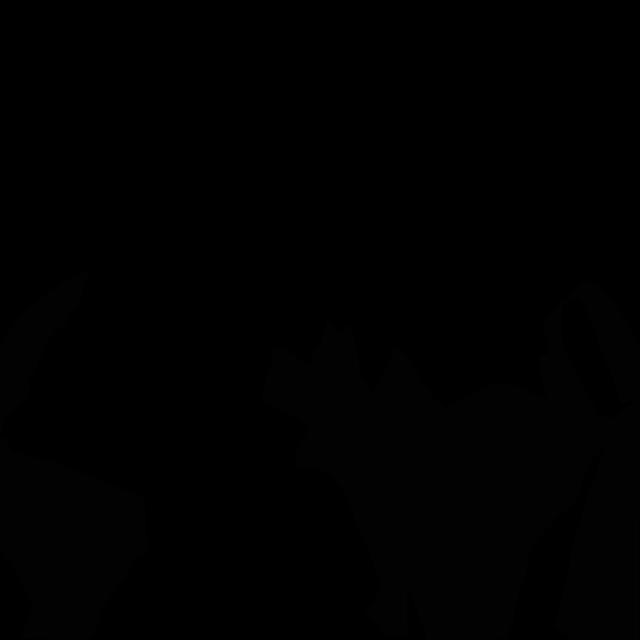cardboard: (262, 319, 592, 640), (0, 268, 150, 640), (555, 399, 640, 640), (541, 281, 640, 405), (539, 325, 616, 459)
